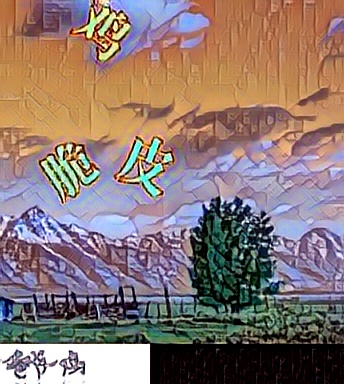B4E0: (38, 138, 101, 204)
BCA6: (70, 1, 133, 68)
C6A4: (112, 133, 175, 199)
